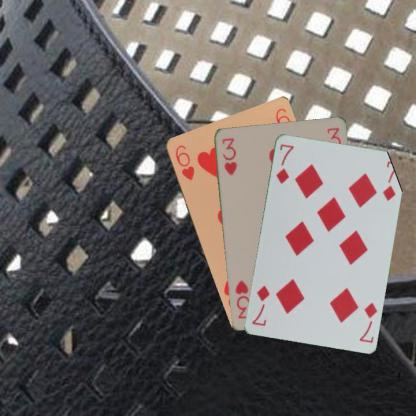3h: (219, 135, 238, 177)
6h: (172, 142, 196, 182)
7d: (356, 299, 378, 344), (274, 141, 296, 184)
